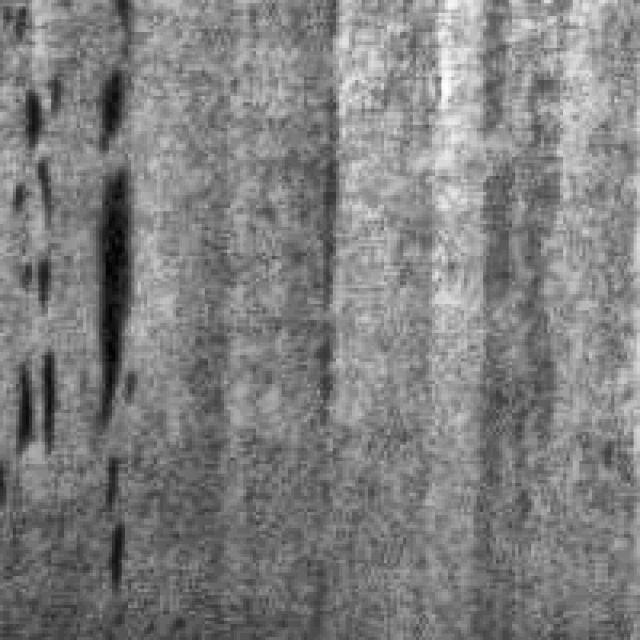Patches: (461, 19, 554, 579), (288, 7, 358, 436), (64, 148, 141, 438), (83, 435, 144, 605), (3, 156, 58, 340), (6, 333, 64, 464), (6, 60, 61, 164), (86, 58, 132, 154)
